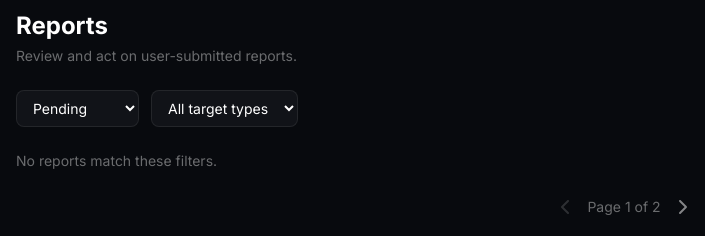
Test: AdminReportsPage — pagination › shows and navigates pagination controls when there are multiple pages
Check: the text "Page 1 of 2" is shown, box [587,197,661,217]
Check: the 1st button is disabled, box [561,195,571,219]
Click the 2nd button.
click(682, 207)  # box [677,195,687,219]
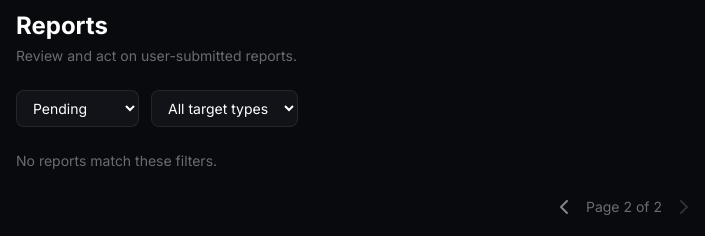
Check: the text "Page 2 of 2" is shown, box [586,197,662,217]
Check: the 2nd button is disabled, box [678,195,688,219]
